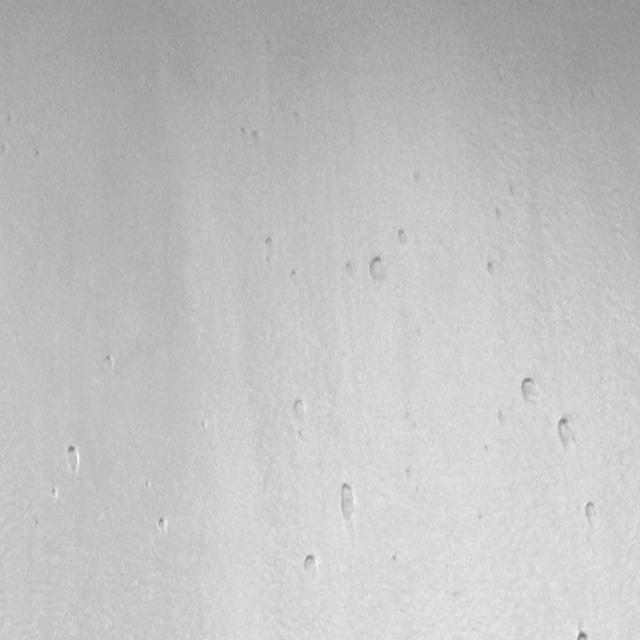pin holes: (335, 480, 361, 524), (554, 414, 580, 452), (518, 376, 546, 409), (288, 396, 310, 431), (580, 499, 604, 530), (62, 443, 83, 476), (366, 254, 389, 284), (261, 234, 279, 263), (300, 553, 320, 579), (248, 126, 265, 150), (394, 228, 412, 249), (482, 258, 499, 280), (493, 408, 510, 428), (101, 354, 117, 375), (155, 515, 171, 534), (342, 259, 358, 278), (289, 267, 301, 284), (577, 627, 594, 639), (237, 126, 249, 142), (50, 485, 60, 502), (32, 148, 44, 162), (141, 478, 152, 493), (0, 140, 7, 158)
